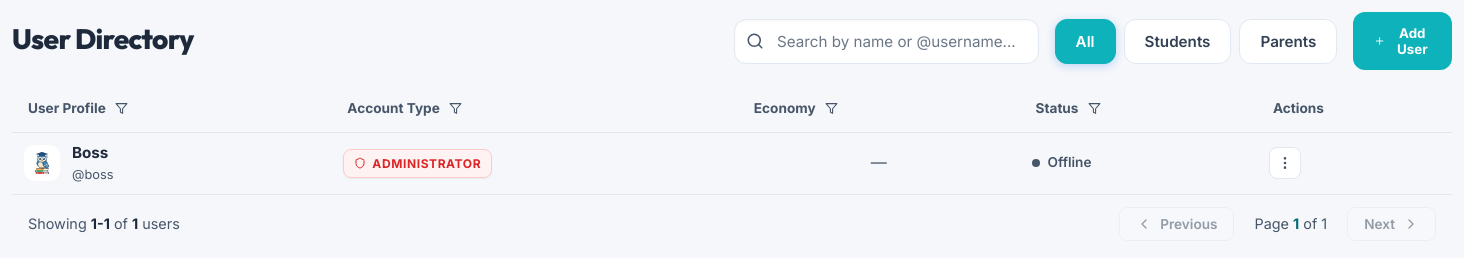
Users Page › removing users › does not offer Remove User for an administrator
The width and height of the screenshot is (1464, 258).
Click the button with test id "kebab-trigger" at (1285, 163), box 1269,147 -> 1301,179
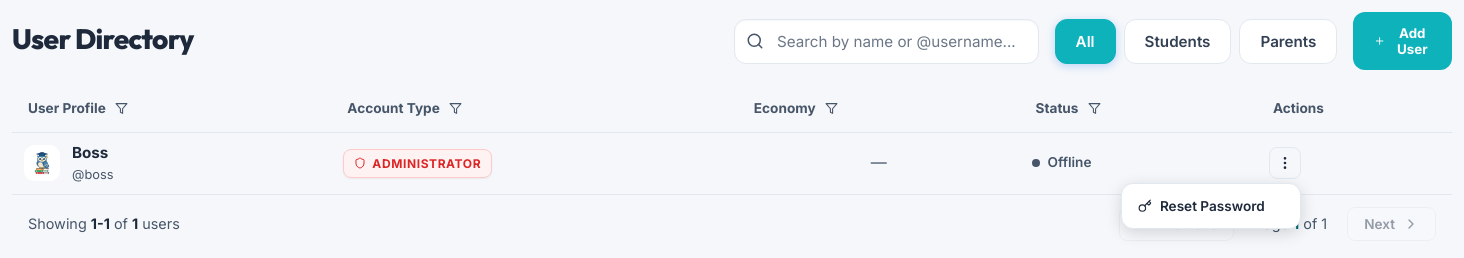
Result: the button "Reset Password" is shown at 1126,188 -> 1296,224
